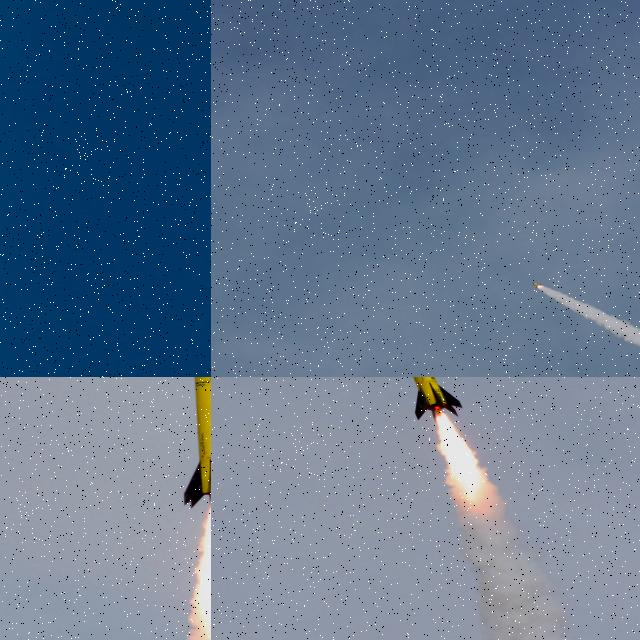Rocket: (182, 377, 211, 508), (382, 377, 463, 421), (532, 282, 542, 288)
